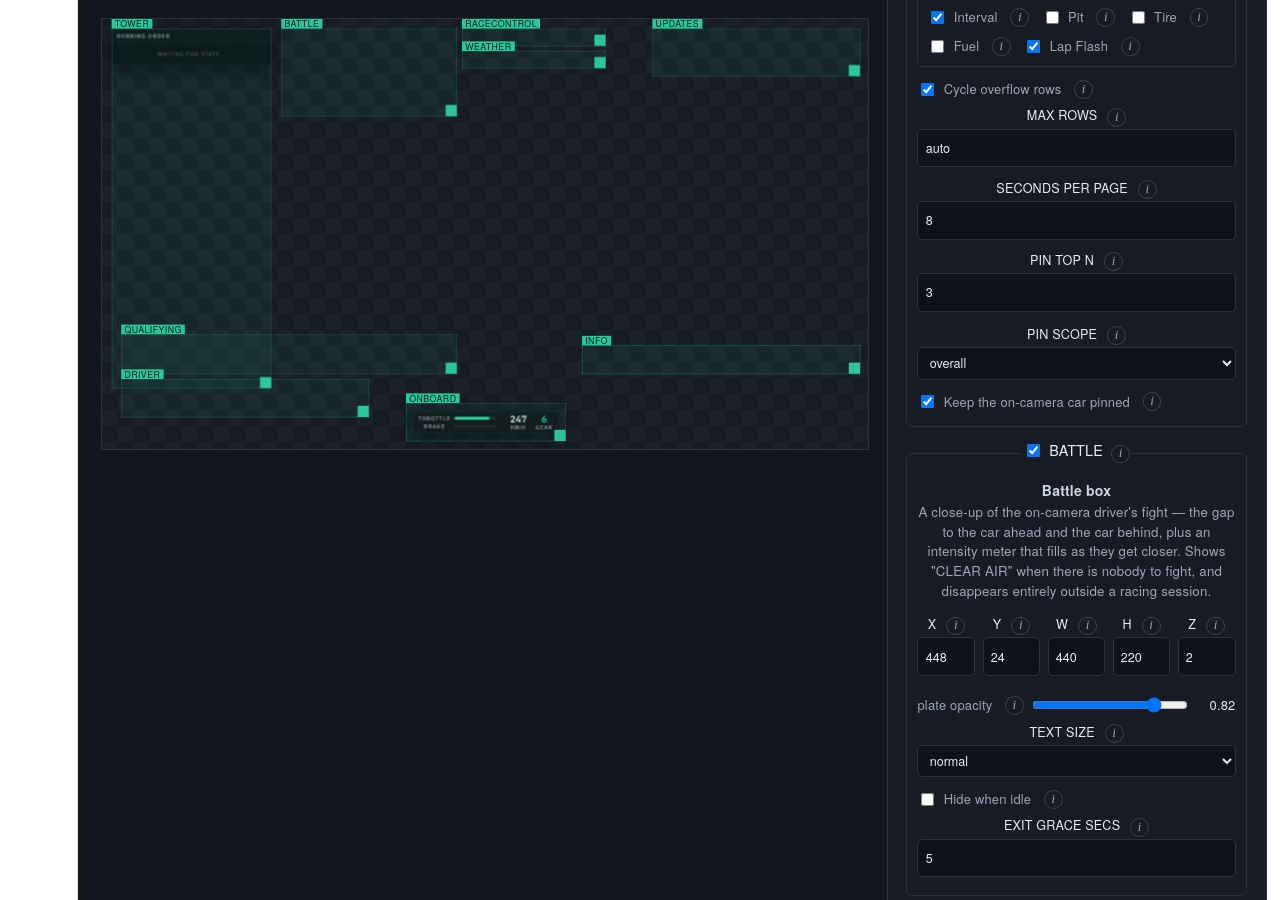
Test: ConfigPage editor wiring › hiding a widget removes it from the live preview
(page scrolled)
expect the element with test id "widget-battle" is shown: met, box [281,29,457,117]
Click the checkbox with test id "visible-battle" at (1034, 450), box [1027,444,1040,457]
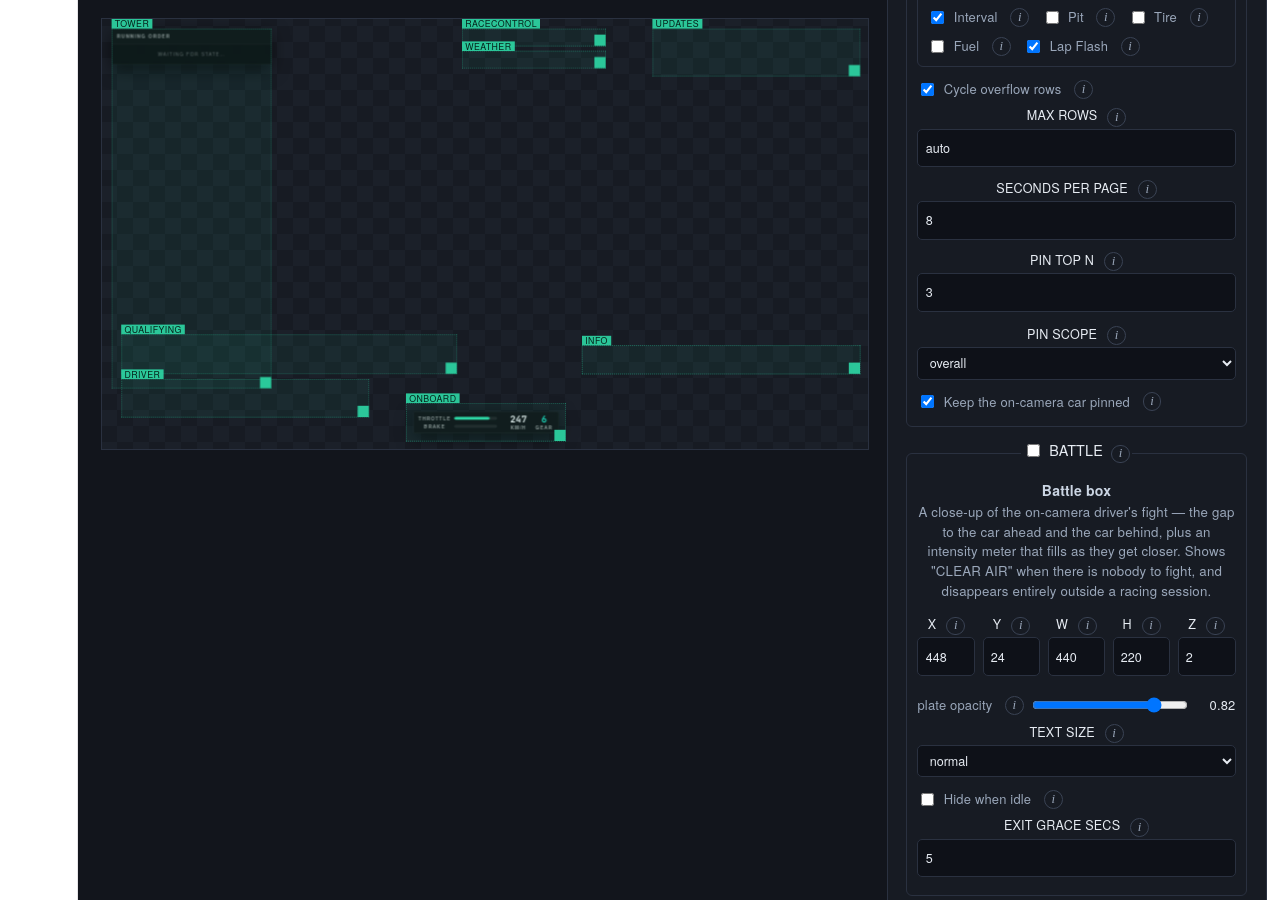
expect the element with test id "widget-battle" is gone: met
